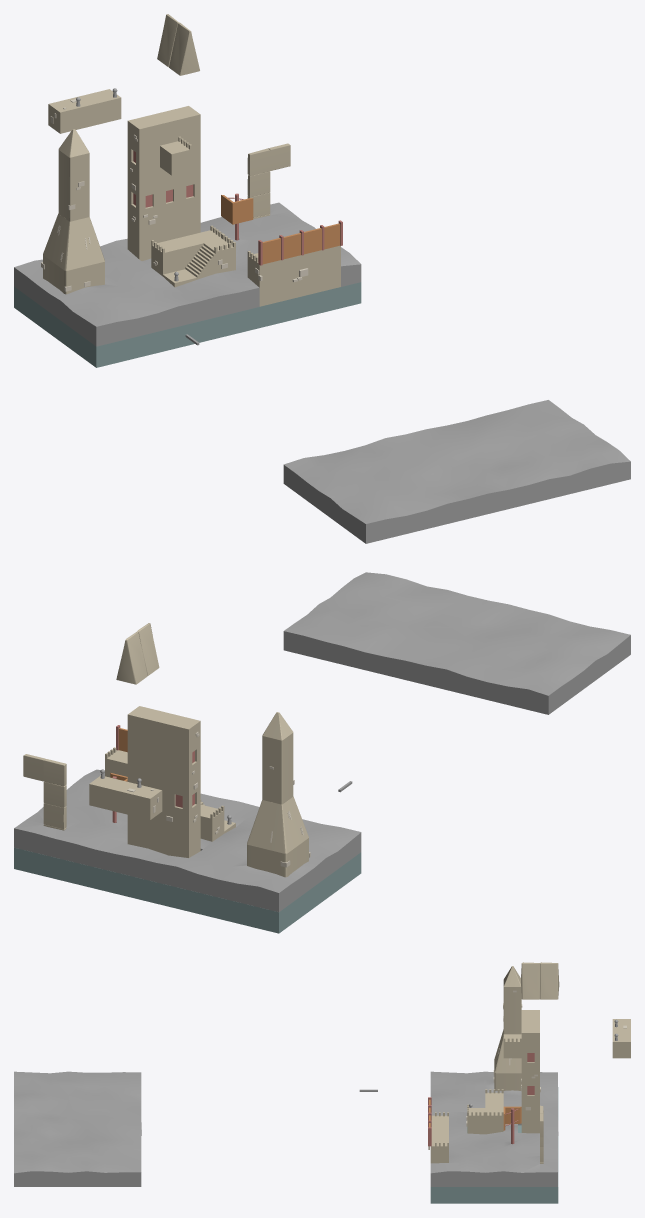
File: teaser_pier_env_unmerged.fbx
The picture shows the model from 3 angles, top to bottom: view 1: azimuth 30°, elevation 25°; view 2: azimuth 150°, elevation 25°; view 3: azimuth 270°, elevation 25°; orthographic projection. The views are drawn at different scales.
Parts seen in each view (by area): view 1: pCube8, water1, platform1, under_water, platform6, platform83, platform72, platform2, platform73, fence_wood, platform71, roof1 (+1 smaller); view 2: pCube8, water1, platform1, under_water, platform72, platform2, platform73, platform71, roof5, platform83, roof1, platform89 (+5 smaller); view 3: pCube8, water1, platform1, under_water, platform83, platform73, platform6, platform2, roof5, roof1, platform72, platform71.
Boxes of the visible parts, <box> form: pCube8: <box>283,400,630,543</box>; water1: <box>14,202,361,346</box>; platform1: <box>127,106,200,260</box>; under_water: <box>14,282,361,367</box>; platform6: <box>247,245,340,306</box>; platform83: <box>151,230,235,287</box>; platform72: <box>43,213,104,270</box>; platform2: <box>48,89,121,133</box>; platform73: <box>58,150,89,221</box>; fence_wood: <box>262,223,340,264</box>; platform71: <box>43,255,104,294</box>; roof1: <box>169,22,199,75</box>; pCube8: <box>283,572,630,714</box>; water1: <box>14,769,361,911</box>; platform1: <box>127,706,200,857</box>; under_water: <box>14,847,361,933</box>; platform72: <box>247,796,308,853</box>; platform2: <box>89,775,162,819</box>; platform73: <box>262,733,293,804</box>; platform71: <box>247,838,308,877</box>; roof5: <box>116,631,147,684</box>; platform83: <box>200,800,235,841</box>; roof1: <box>137,623,159,675</box>; platform89: <box>43,759,66,786</box>; pCube8: <box>14,1071,141,1186</box>; water1: <box>430,1071,558,1186</box>; platform1: <box>503,1010,539,1133</box>; under_water: <box>430,1087,558,1203</box>; platform83: <box>467,1092,503,1134</box>; platform73: <box>503,987,521,1034</box>; platform6: <box>430,1115,448,1163</box>; platform2: <box>612,1019,630,1058</box>; roof5: <box>540,962,559,999</box>; roof1: <box>521,962,539,999</box>; platform72: <box>494,1029,521,1073</box>; platform71: <box>494,1072,521,1090</box>.
Size of the model in its own units: 130 by 120 by 339.
